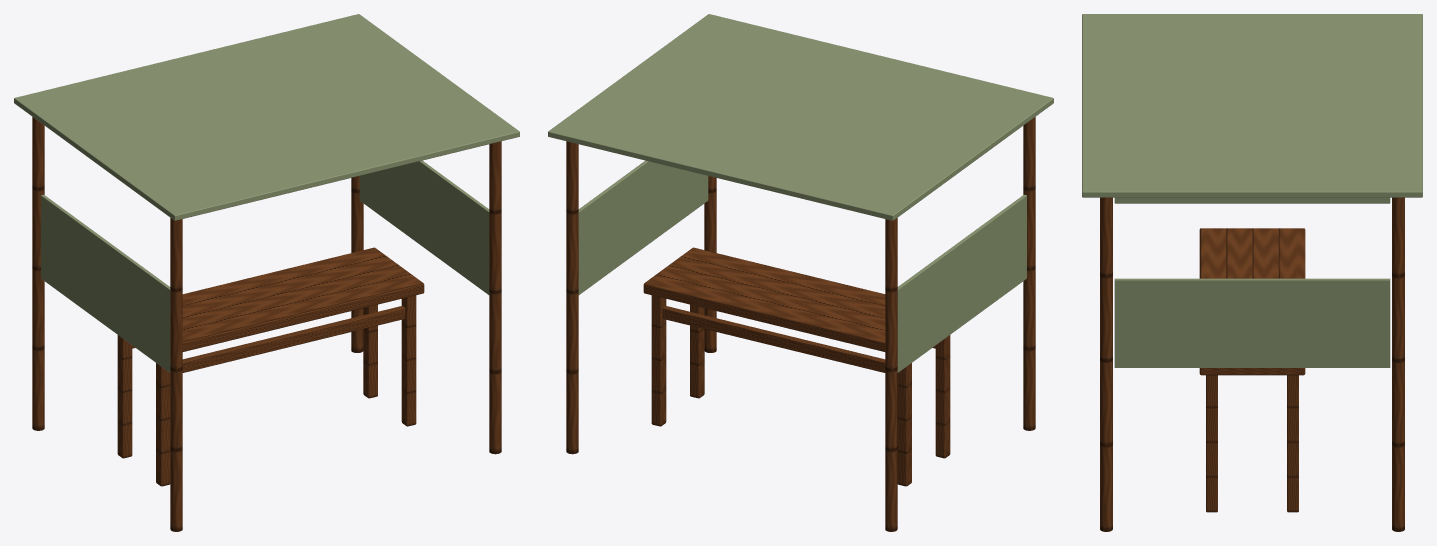
File: trading-post-and-barter-market-canopy-market-booth-46c6c10f.glb
3 views of the same model, side by side, from view 1: azimuth 30°, elevation 25°; view 2: azimuth 150°, elevation 25°; view 3: azimuth 270°, elevation 25° (orthographic). The views are drawn at different scales.
Parts seen in each view (by area): view 1: canopy-market-booth; view 2: canopy-market-booth; view 3: canopy-market-booth.
Boxes of the visible parts, box(x1,y1,x2,y2) form: canopy-market-booth: box(14, 14, 519, 531); canopy-market-booth: box(548, 14, 1053, 531); canopy-market-booth: box(1082, 14, 1422, 531).
Bounding box in the file's own units: 2.6 × 2.34 × 2.1.
2 materials, 1 textured.
